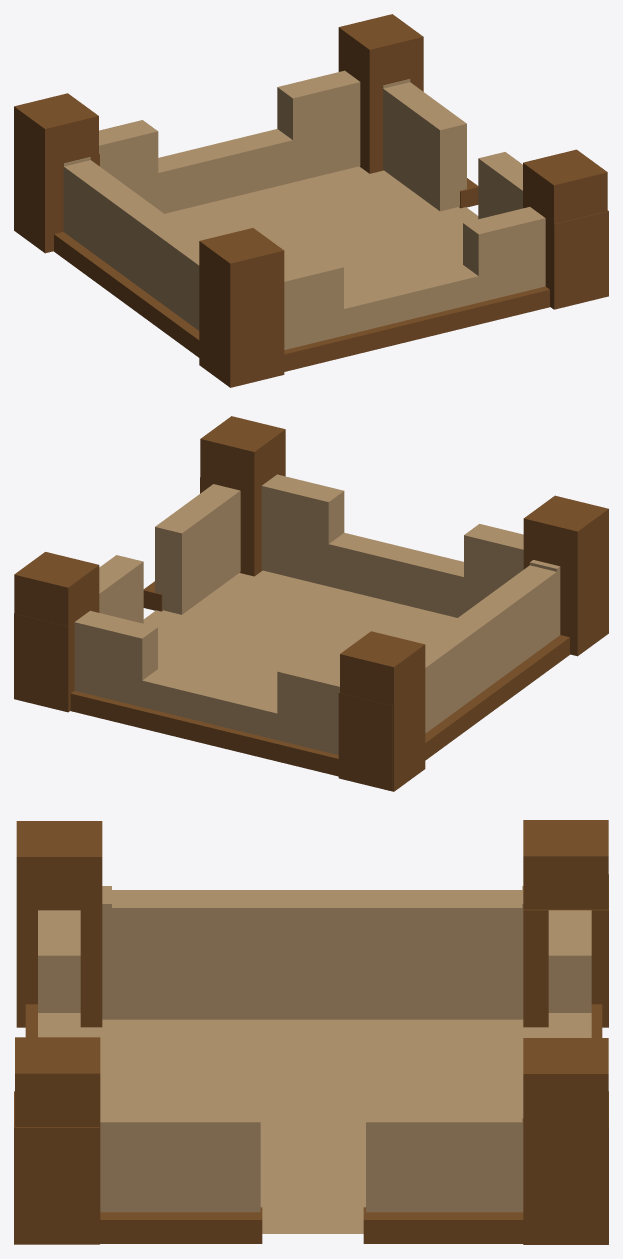
Rendered from BasicHouse1.fbx.
3 renders of one model, top to bottom at view 1: azimuth 30°, elevation 25°; view 2: azimuth 150°, elevation 25°; view 3: azimuth 270°, elevation 25°, orthographic. The views are drawn at different scales.
Parts seen in each view (by area): view 1: Plane, Cube, Cube.001, poutre.002, Cube.002, Cube.003, poutre.010, poutre.009, poutre.003, poutre.008, poutre.004, poutre.006; view 2: Plane, Cube.001, Cube, Cube.002, Cube.003, poutre.002, poutre.010, poutre.008, poutre.005, poutre.009, poutre, poutre.001 (+1 smaller); view 3: Cube.002, Plane, Cube.003, poutre.002, poutre.007, poutre.001, poutre.004, poutre.008, poutre.009, poutre.010, Cube, Cube.001 (+1 smaller).
Boxes of the visible parts, bbox=[...] form: Plane: bbox=[165, 166, 478, 293]; Cube: bbox=[99, 70, 360, 213]; Cube.001: bbox=[284, 207, 545, 349]; poutre.002: bbox=[199, 228, 284, 387]; Cube.002: bbox=[63, 157, 200, 330]; Cube.003: bbox=[383, 79, 522, 219]; poutre.010: bbox=[14, 93, 98, 253]; poutre.009: bbox=[338, 14, 423, 173]; poutre.003: bbox=[284, 286, 549, 371]; poutre.008: bbox=[523, 149, 607, 309]; poutre.004: bbox=[554, 210, 608, 309]; poutre.006: bbox=[54, 232, 199, 357]; Plane: bbox=[143, 570, 457, 697]; Cube.001: bbox=[261, 474, 523, 617]; Cube: bbox=[74, 610, 339, 754]; Cube.002: bbox=[423, 560, 560, 733]; Cube.003: bbox=[99, 484, 240, 623]; poutre.002: bbox=[523, 495, 608, 656]; poutre.010: bbox=[340, 631, 425, 791]; poutre.008: bbox=[200, 416, 285, 576]; poutre.005: bbox=[70, 690, 338, 776]; poutre.009: bbox=[14, 552, 99, 712]; poutre: bbox=[338, 692, 392, 791]; poutre.001: bbox=[14, 613, 67, 712]; Cube.002: bbox=[102, 886, 523, 1019]; Plane: bbox=[80, 1019, 548, 1233]; Cube.003: bbox=[100, 1100, 523, 1212]; poutre.002: bbox=[16, 821, 102, 1027]; poutre.007: bbox=[100, 1207, 523, 1243]; poutre.001: bbox=[523, 1091, 608, 1244]; poutre.004: bbox=[14, 1091, 99, 1244]; poutre.008: bbox=[15, 1037, 100, 1243]; poutre.009: bbox=[523, 1038, 608, 1244]; poutre.010: bbox=[523, 820, 608, 909]; Cube: bbox=[548, 910, 591, 1037]; Cube.001: bbox=[38, 910, 80, 1037].
Size of the model in its own units: 1406 by 442 by 1392.
